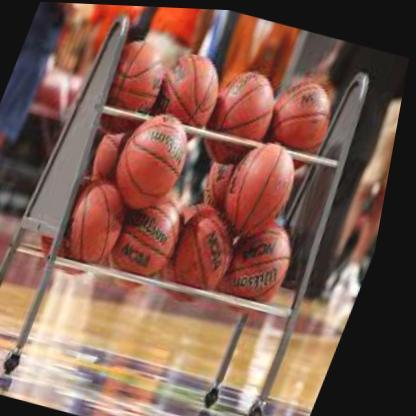basketball: (155, 194, 254, 304), (108, 103, 205, 213), (101, 188, 198, 297), (216, 132, 312, 240), (85, 31, 179, 139), (253, 70, 348, 175), (197, 63, 290, 167), (54, 168, 146, 271), (221, 211, 313, 313), (83, 113, 173, 211), (146, 47, 233, 148), (198, 131, 282, 222)
